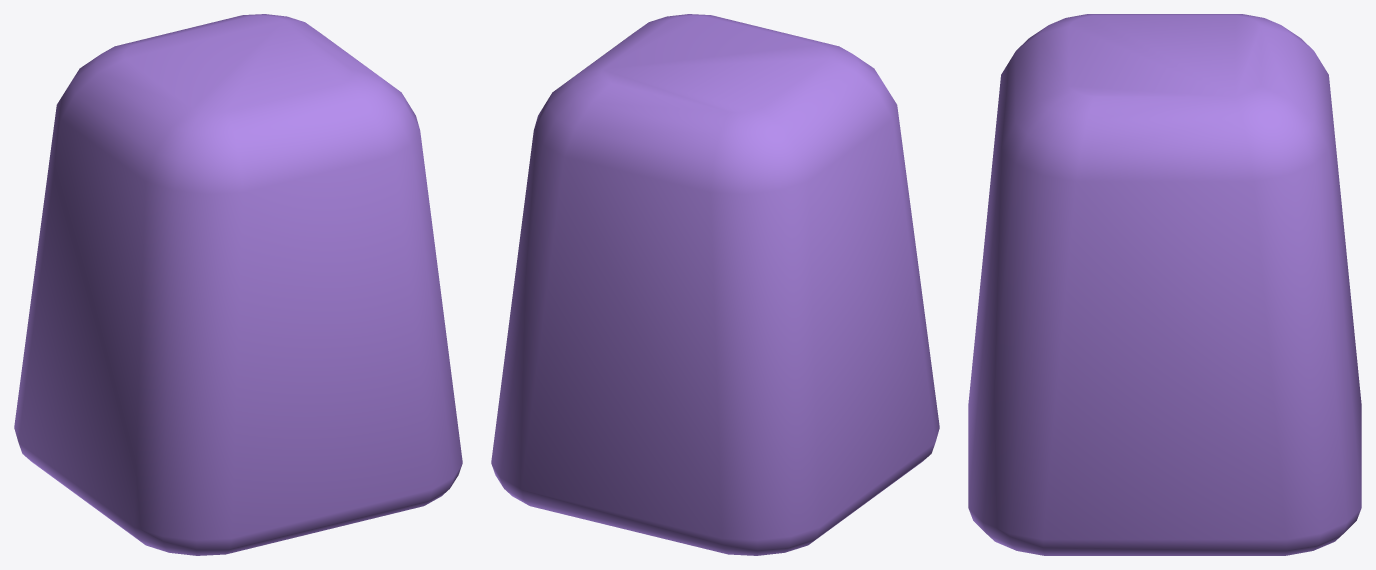
The model's file is Block.fbx.
The picture shows the model from 3 angles, left to right: view 1: azimuth 30°, elevation 25°; view 2: azimuth 150°, elevation 25°; view 3: azimuth 270°, elevation 25°; orthographic projection. The views are drawn at different scales.
Parts seen in each view (by area): view 1: Block; view 2: Block; view 3: Block.
Boxes of the visible parts, <box> form: Block: <box>14,14,462,555</box>; Block: <box>491,14,939,555</box>; Block: <box>968,14,1361,555</box>.
Size of the model in its own units: 2.48 by 2.98 by 2.48.
